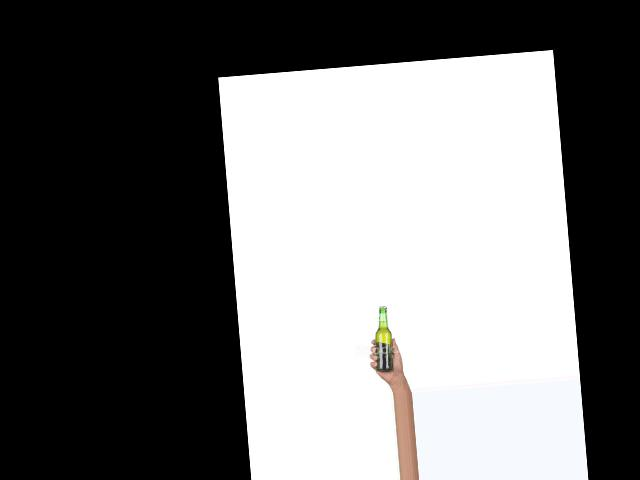beer: (372, 305, 395, 371)
